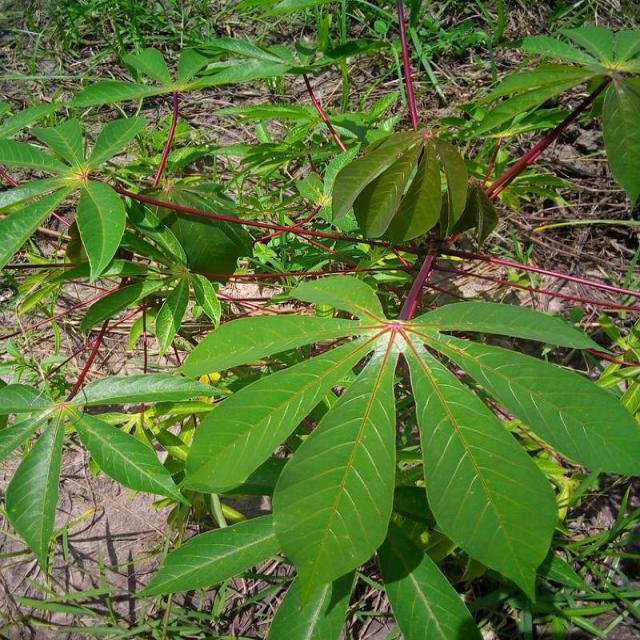cassava leaf: (399, 331, 558, 604)
